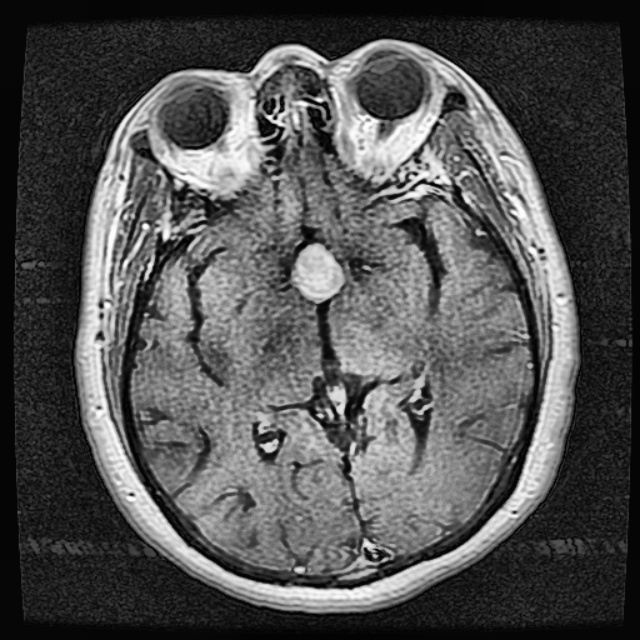Pituitary: (293, 244, 339, 299)
